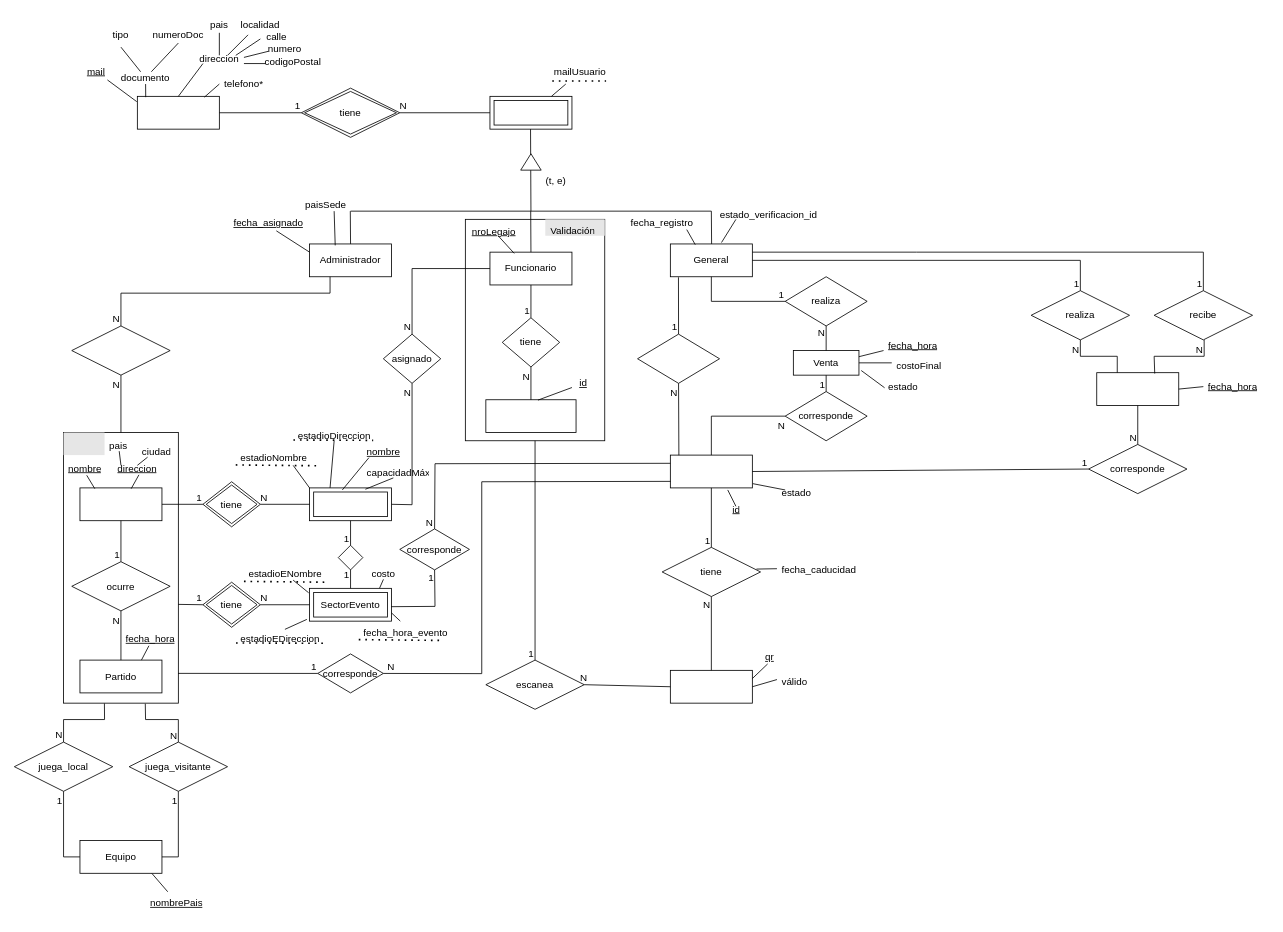
Image size: 1283x932. Some labels were removed from this diagram. Each missing label, with the box of its shape:
DispositivoEscaneo: (485, 399, 576, 433)
Entrada: (670, 454, 752, 488)
es: (337, 544, 363, 570)
es_propietario: (637, 333, 720, 383)
Estadio: (79, 487, 162, 521)
Evento: (63, 432, 104, 455)
gestiona: (71, 325, 170, 375)
Perfil: (489, 96, 572, 129)
Sector: (309, 487, 392, 521)
Token: (670, 670, 752, 703)
TransfEntrada: (1096, 372, 1179, 405)
Usuario: (137, 96, 219, 129)
